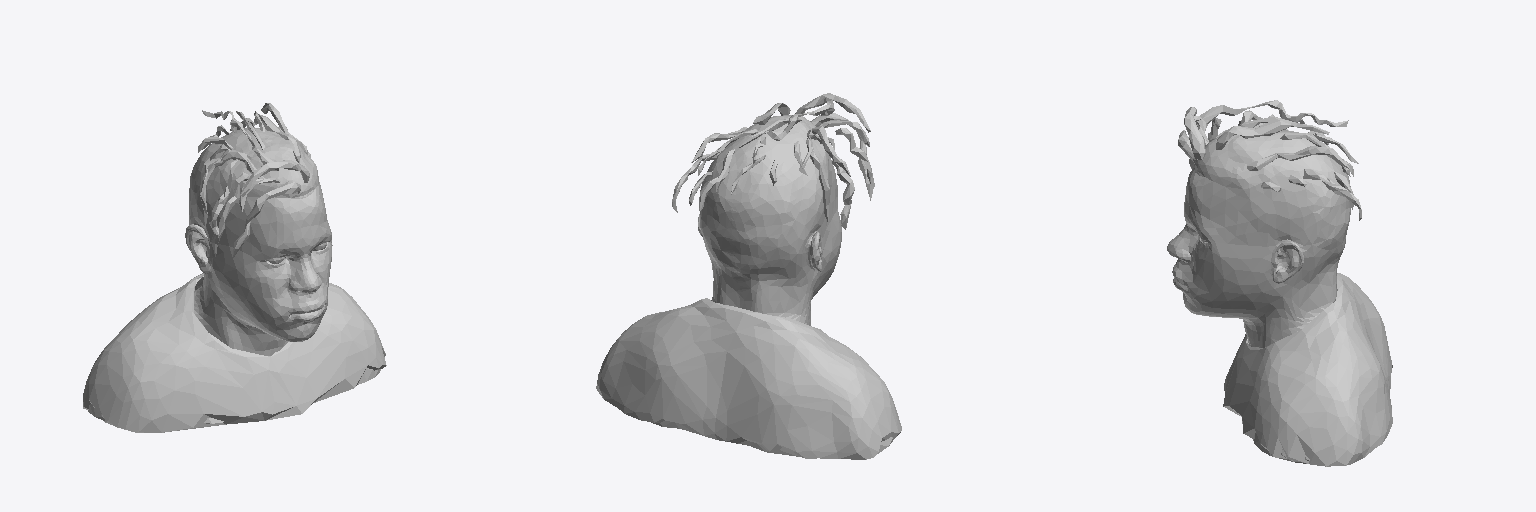
File: low-head.OBJ
The picture shows the model from 3 angles: view 1: azimuth 30°, elevation 25°; view 2: azimuth 150°, elevation 25°; view 3: azimuth 270°, elevation 25°; orthographic projection.
Parts seen in each view (by area): view 1: Group31914; view 2: Group31914; view 3: Group31914.
Boxes of the visible parts, <box> form: Group31914: <box>83,103,386,432</box>; Group31914: <box>596,93,901,459</box>; Group31914: <box>1167,100,1392,466</box>.
Bounding box in the file's own units: 22.64 × 22 × 15.61.